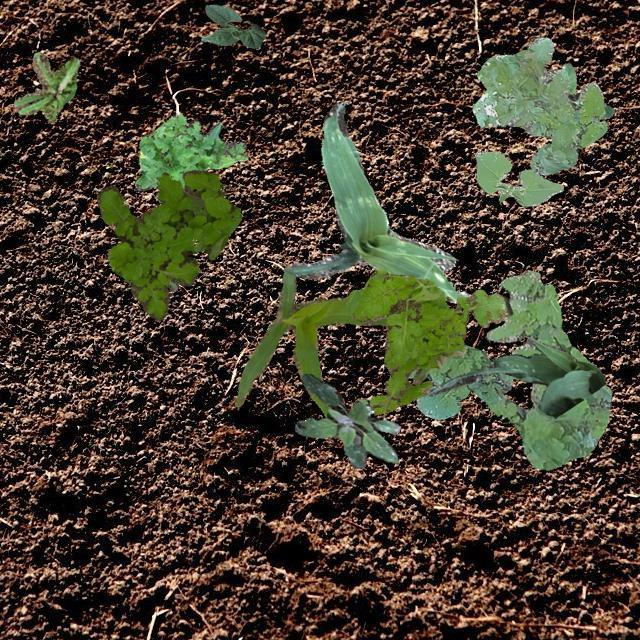crop: (284, 102, 470, 302), (234, 268, 428, 416), (428, 336, 604, 416), (473, 152, 562, 206), (200, 4, 264, 46)
weed: (484, 271, 610, 468), (344, 267, 512, 413), (97, 168, 240, 318), (472, 35, 604, 174), (294, 372, 398, 467), (134, 112, 246, 190), (408, 344, 510, 418), (12, 52, 78, 120), (560, 62, 614, 118), (165, 278, 178, 290)
